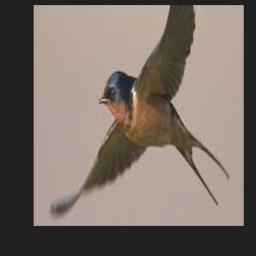Swallow: (48, 5, 229, 226)
